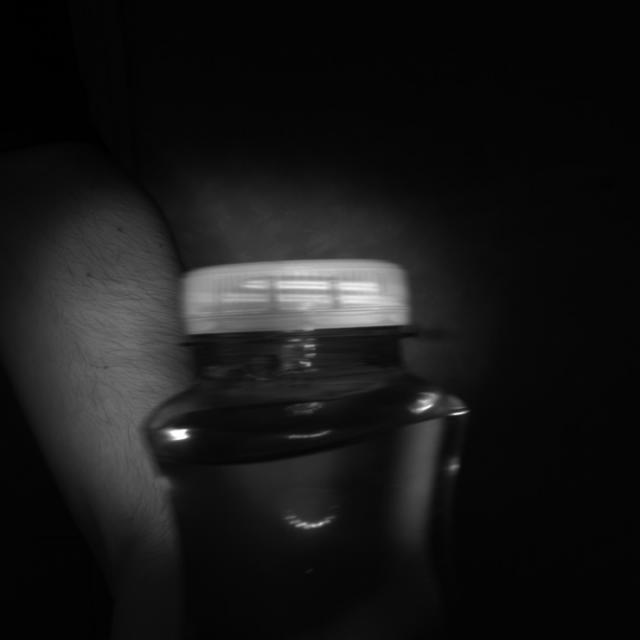Good: (180, 257, 408, 338)
